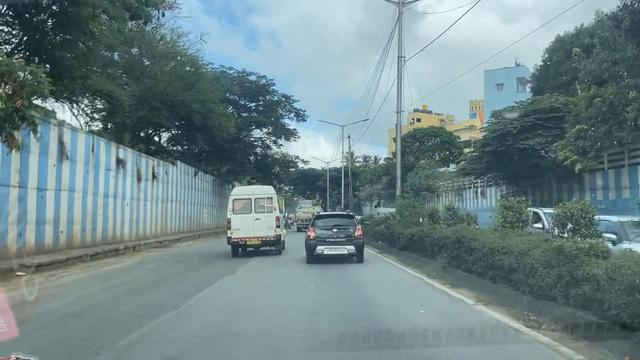HMV: (233, 189, 280, 245)
LMV: (304, 215, 357, 257)
